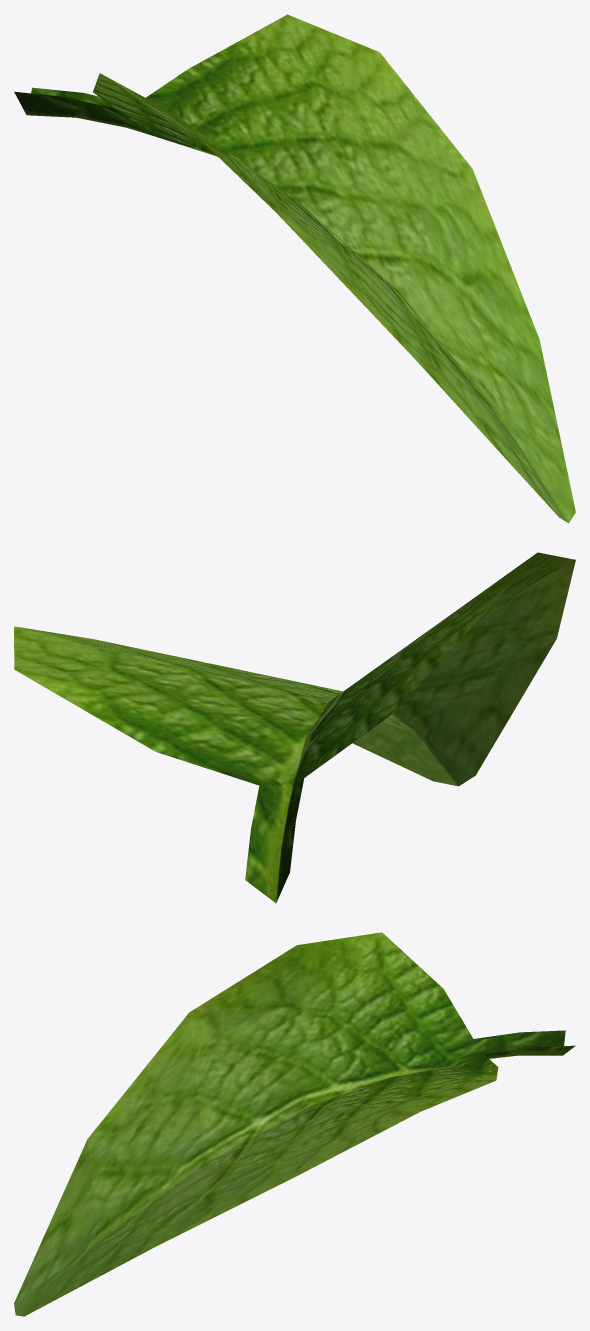
The model's file is leaf.fbx.
3 views of the same model, one above another, from view 1: azimuth 30°, elevation 25°; view 2: azimuth 150°, elevation 25°; view 3: azimuth 270°, elevation 25° (orthographic). The views are drawn at different scales.
Parts seen in each view (by area): view 1: pasted__pasted__leaf; view 2: pasted__pasted__leaf; view 3: pasted__pasted__leaf.
Boxes of the visible parts, left/top/right/bottom form: pasted__pasted__leaf: left=14, top=14, right=575, bottom=523; pasted__pasted__leaf: left=14, top=552, right=575, bottom=903; pasted__pasted__leaf: left=14, top=932, right=575, bottom=1316.
Size of the model in its own units: 4.48 by 4.6 by 8.23.
1 material, 1 textured.
